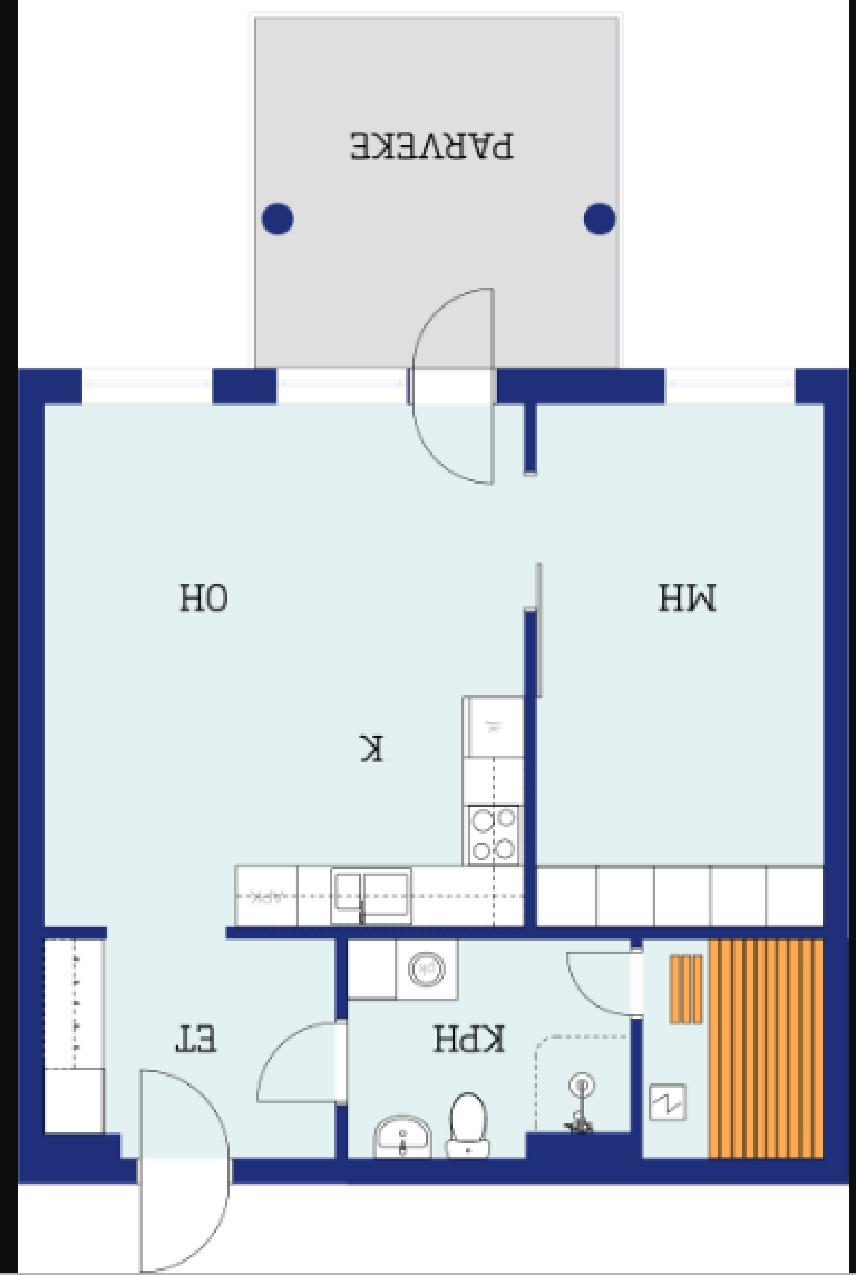door: (385, 283, 521, 492), (129, 1066, 239, 1268), (254, 1018, 350, 1108), (559, 945, 644, 1020)
window: (658, 364, 801, 405), (271, 370, 404, 410), (82, 373, 215, 405)
zone: (46, 407, 532, 928), (543, 404, 821, 923), (256, 14, 619, 361), (46, 937, 339, 1161), (350, 943, 640, 1161), (644, 939, 825, 1154)
